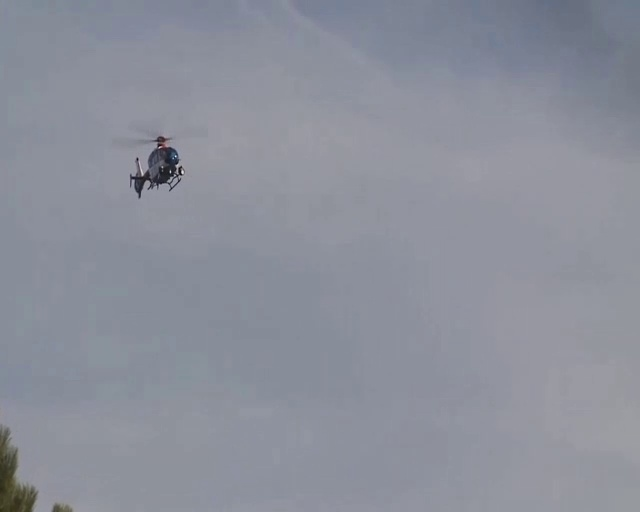HELICOPTER: (113, 131, 187, 199)
